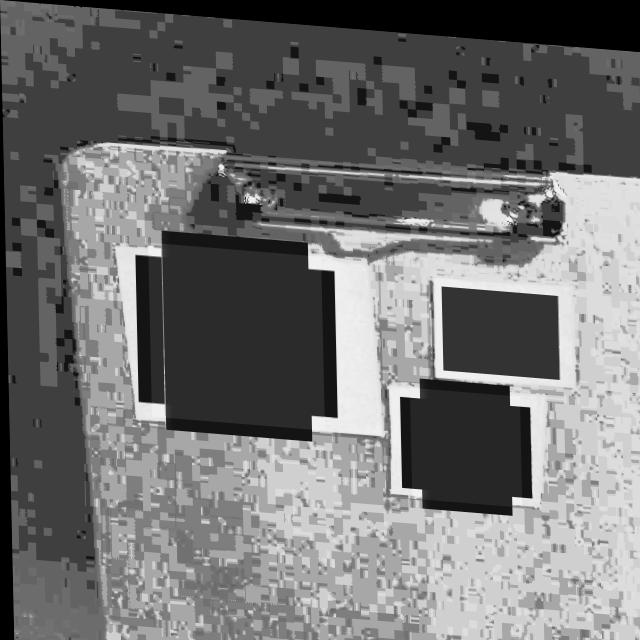qr_code: (147, 240, 323, 425), (408, 381, 520, 499), (439, 278, 559, 371)
